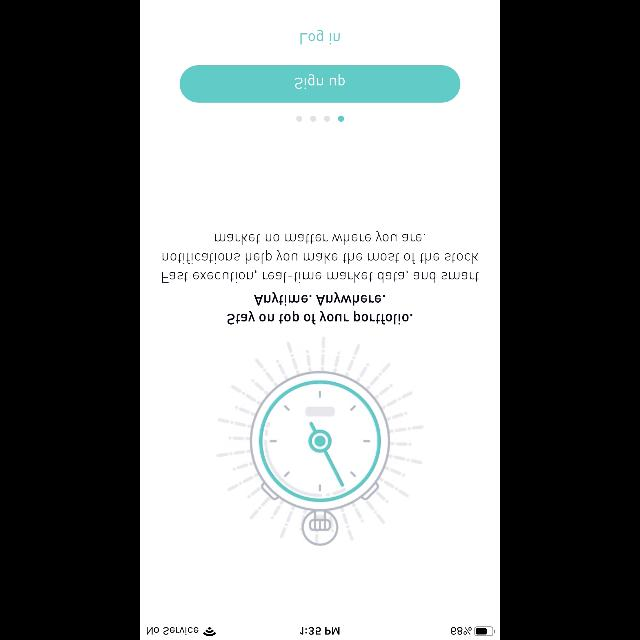image: (216, 337, 424, 546)
pageindicator: (296, 116, 344, 122)
text: (162, 231, 478, 283), (228, 312, 412, 324), (254, 292, 386, 306), (300, 30, 340, 44)
textbutton: (180, 66, 460, 102)
uppertaskbar: (140, 626, 500, 640)
